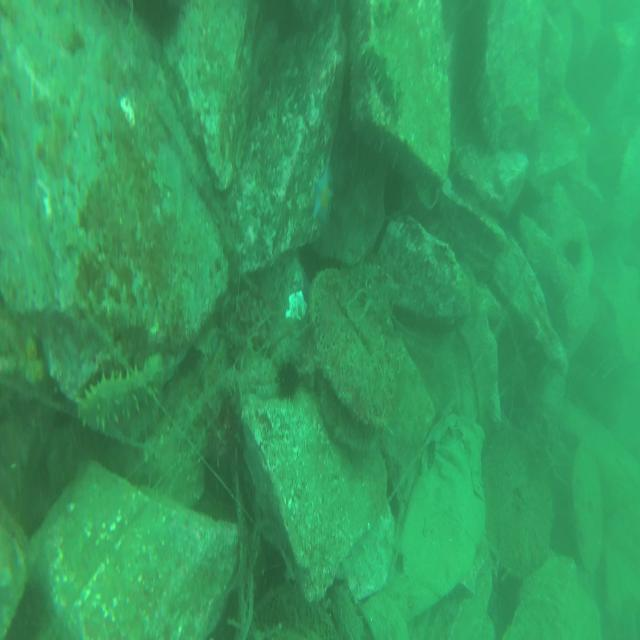echinus: (136, 2, 186, 52), (275, 359, 300, 402), (562, 230, 586, 274)
holothurian: (75, 358, 166, 435), (358, 37, 407, 111)
starfish: (309, 160, 337, 225)
